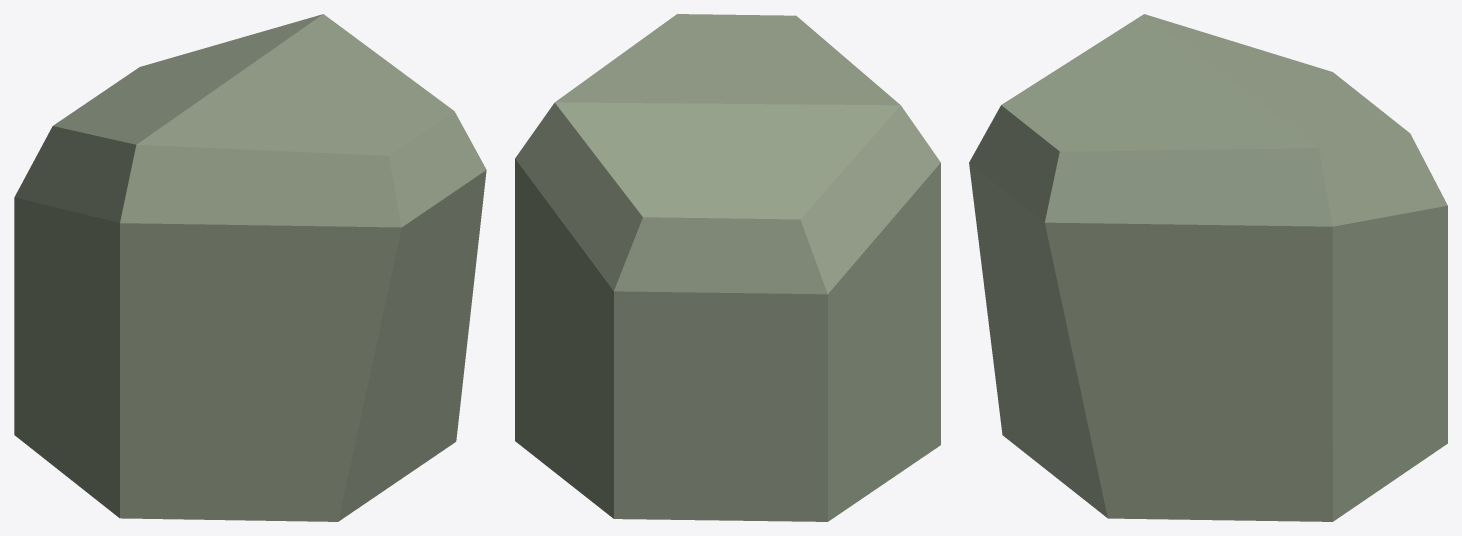
The model's file is 03_Roche_03_v001.fbx.
3 renders of one model, left to right at view 1: azimuth 30°, elevation 25°; view 2: azimuth 150°, elevation 25°; view 3: azimuth 270°, elevation 25°, orthographic. The views are drawn at different scales.
Visible parts, largest first — view 1: Roche_03; view 2: Roche_03; view 3: Roche_03.
Boxes of the visible parts, x1=… form: Roche_03: x1=14, y1=14, x2=486, y2=521; Roche_03: x1=515, y1=14, x2=940, y2=521; Roche_03: x1=969, y1=14, x2=1447, y2=521.
Bounding box in the file's own units: 1.74 × 1.76 × 2.14.
